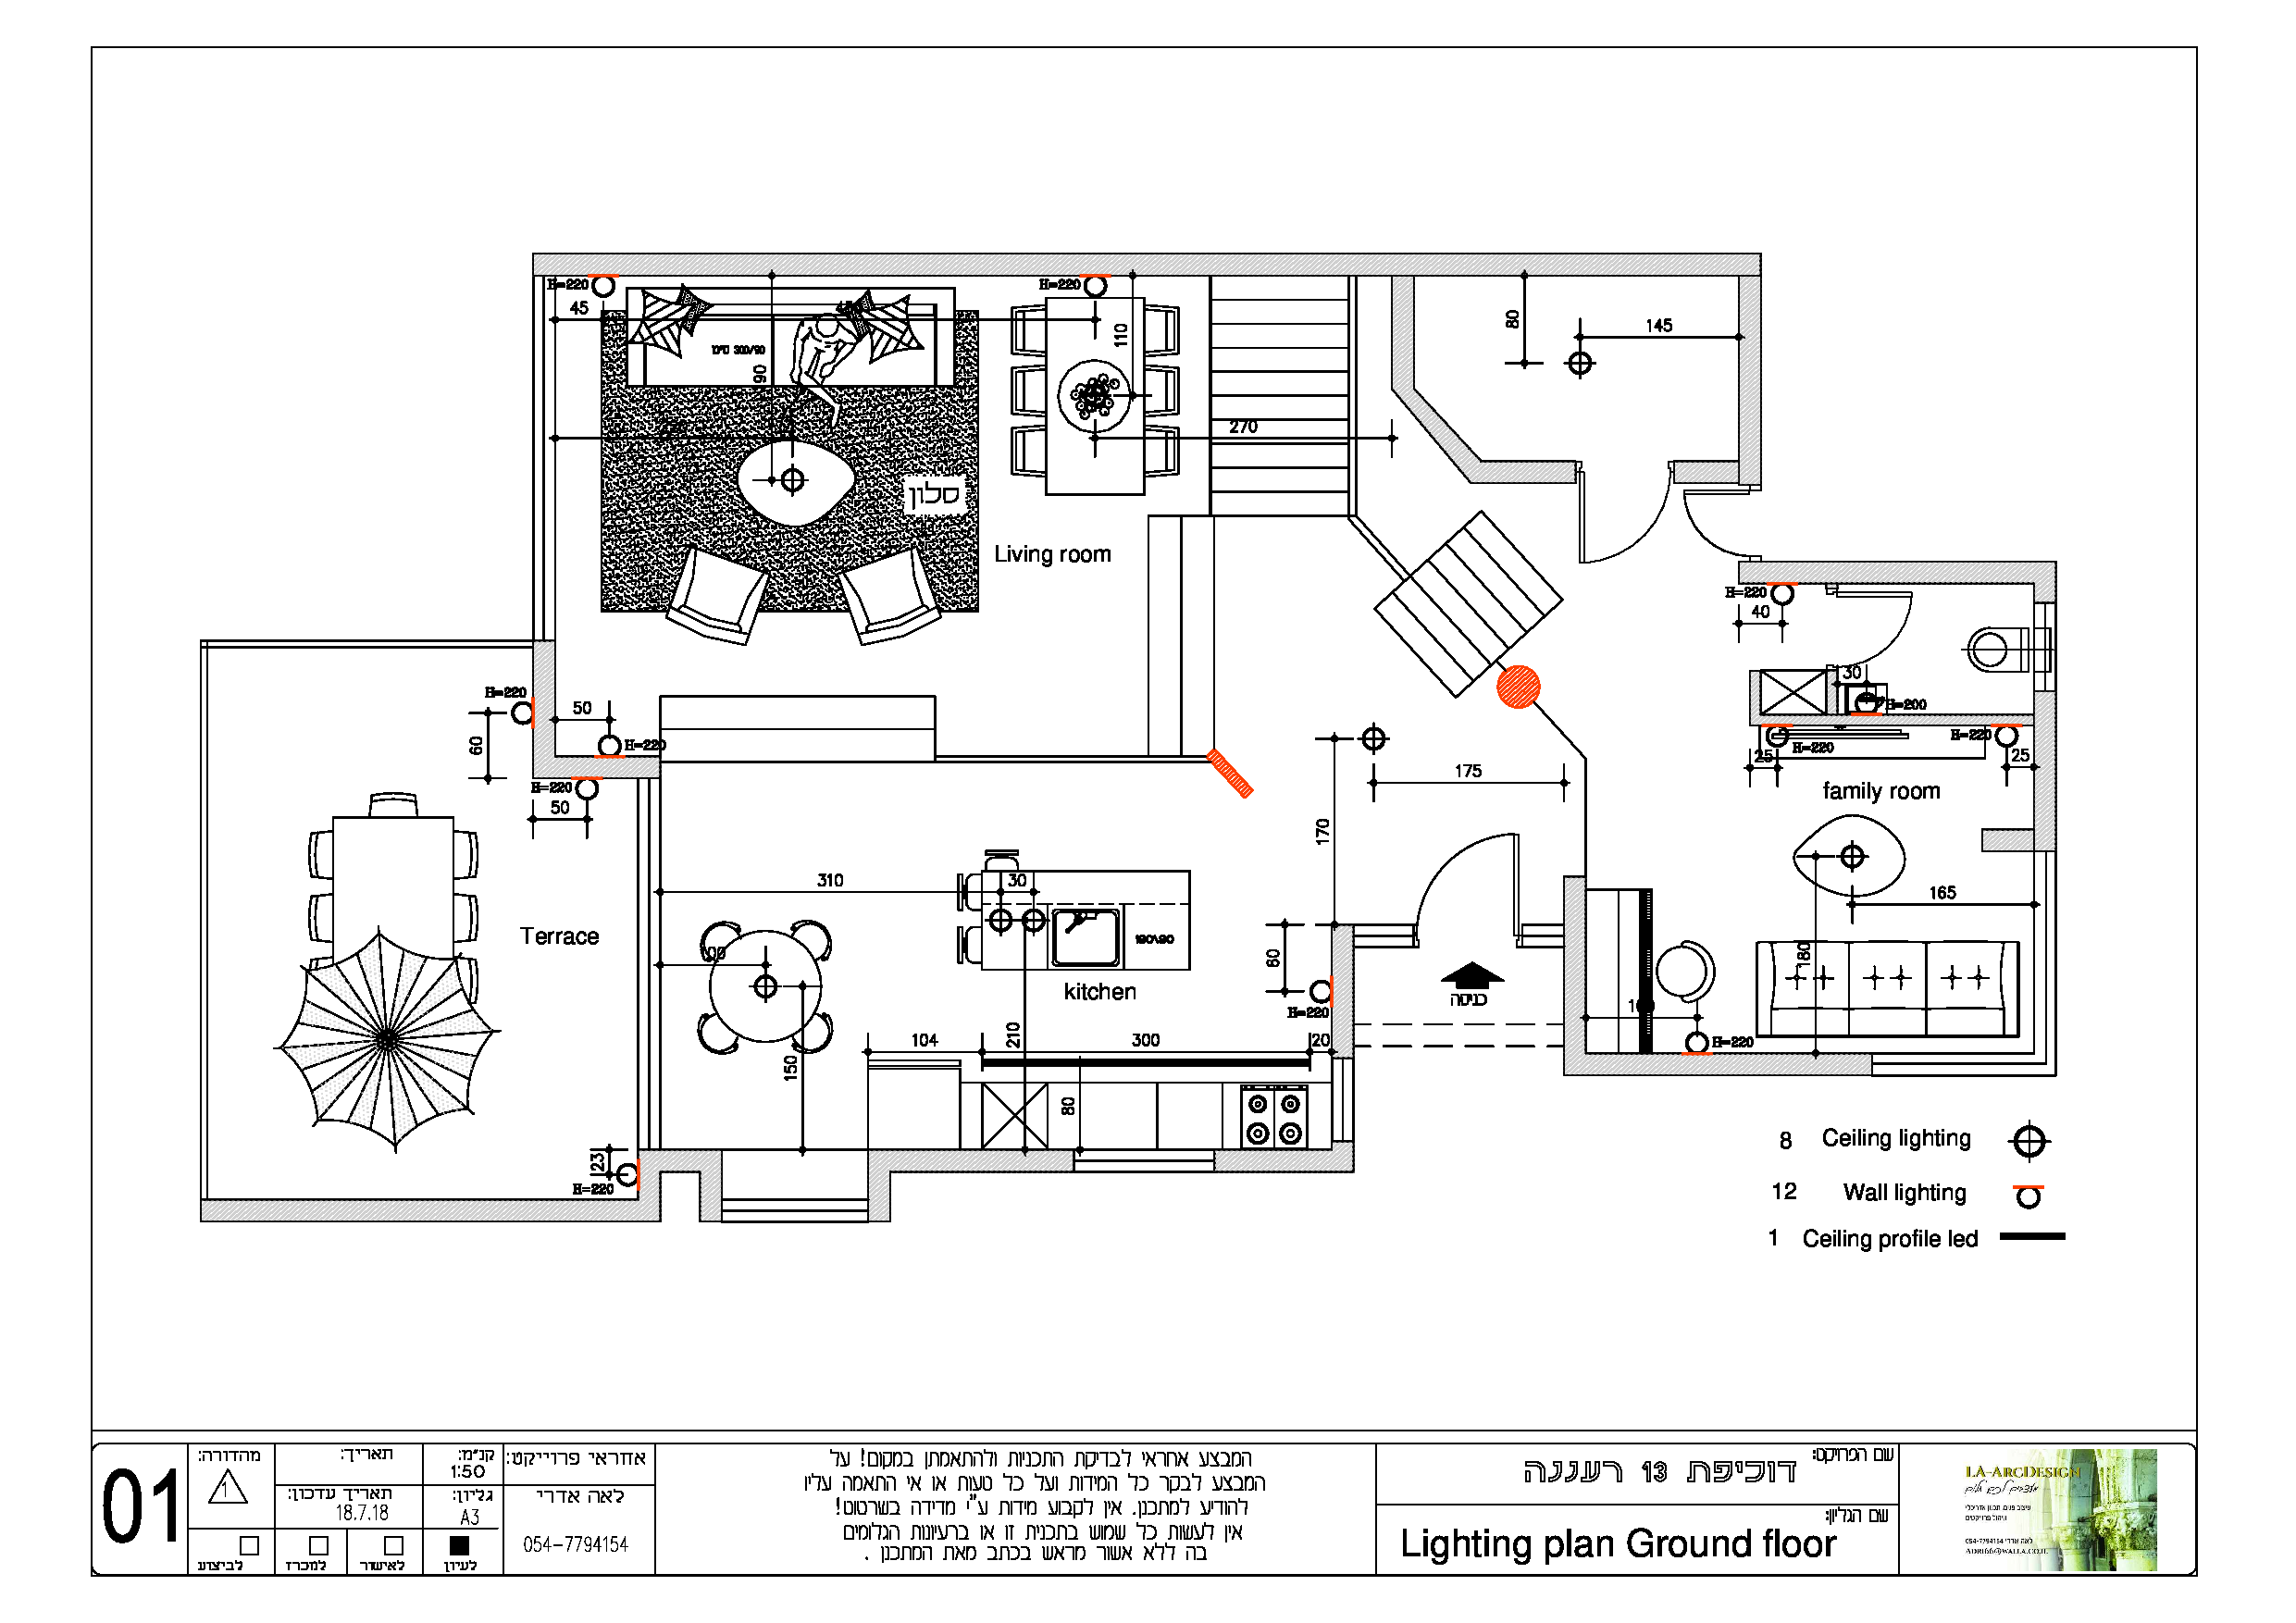door: (1393, 820, 1535, 913), (1565, 490, 1667, 571), (1845, 588, 1920, 662), (1679, 487, 1737, 557)
wall: (539, 256, 1753, 272), (202, 1201, 652, 1219), (1567, 1052, 1867, 1077), (1746, 564, 2045, 583), (1565, 882, 1585, 1052), (1741, 281, 1757, 481), (870, 1154, 1065, 1168), (2036, 696, 2052, 845), (1219, 1154, 1346, 1170), (1395, 281, 1411, 374), (1483, 464, 1567, 480)
window: (720, 1193, 868, 1230), (1072, 1145, 1217, 1182)
